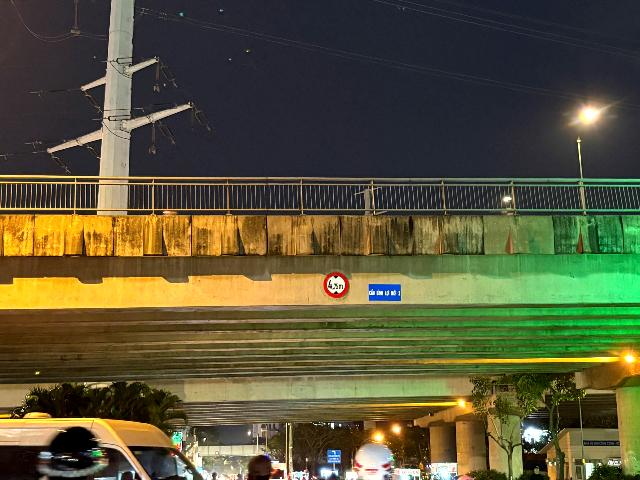han-che-chieu-cao: (323, 271, 349, 299)
